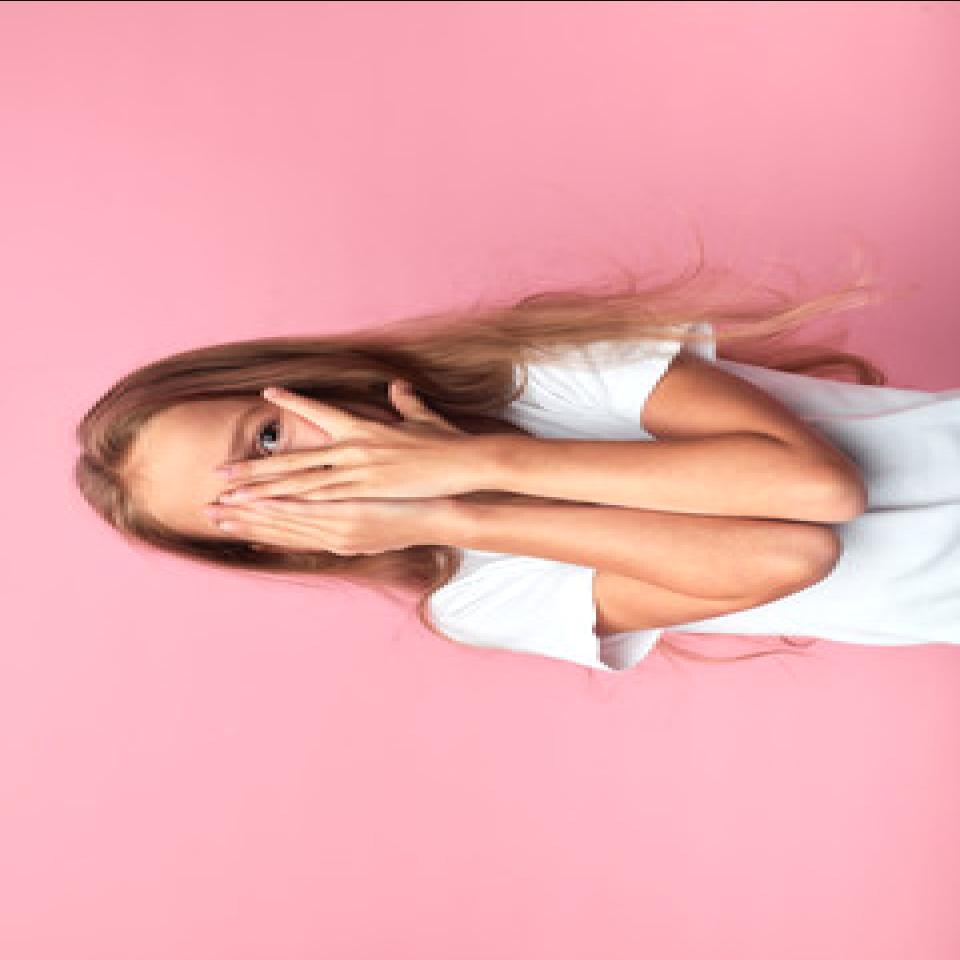Scared: (107, 367, 483, 565)
